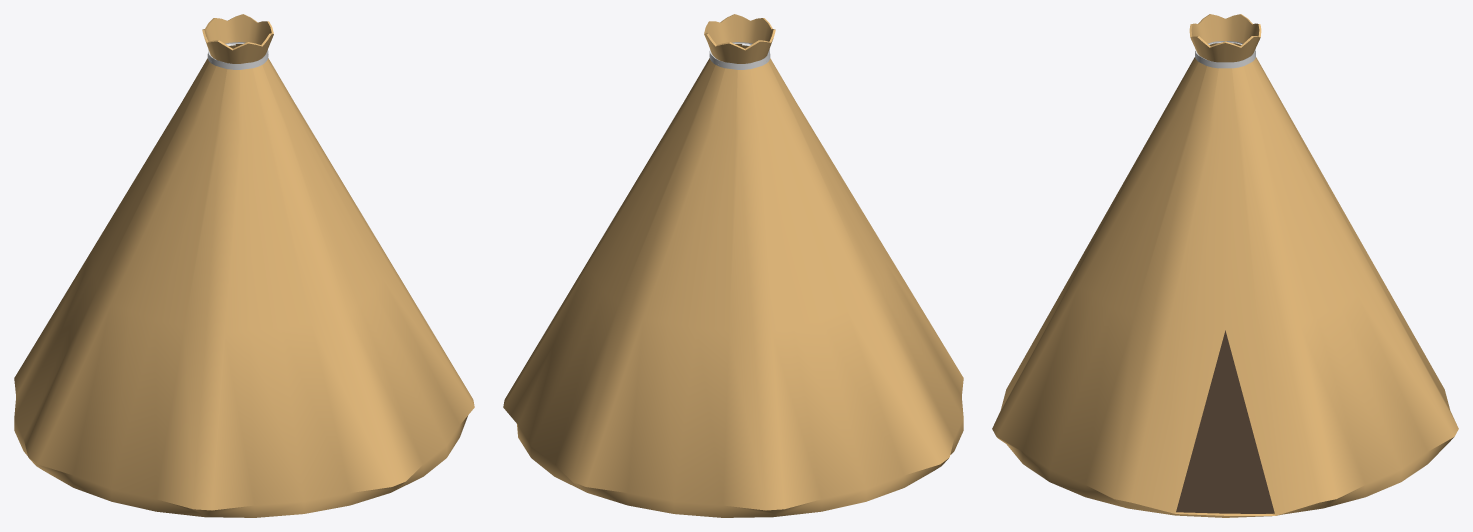
File: Tend.fbx
The picture shows the model from 3 angles, left to right: view 1: azimuth 30°, elevation 25°; view 2: azimuth 150°, elevation 25°; view 3: azimuth 270°, elevation 25°; orthographic projection.
Parts seen in each view (by area): view 1: Tiendita; view 2: Tiendita; view 3: Tiendita.
Boxes of the visible parts, x1,y1,x2,y2 form: Tiendita: [14, 14, 474, 517]; Tiendita: [503, 14, 963, 517]; Tiendita: [992, 14, 1458, 517].
Size of the model in its own units: 435 by 406 by 434.
